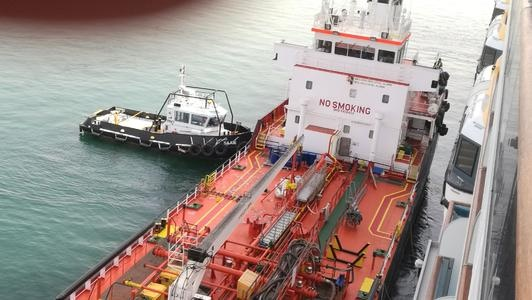Cargoship: (53, 1, 451, 297)
otherboat: (76, 63, 249, 154)
